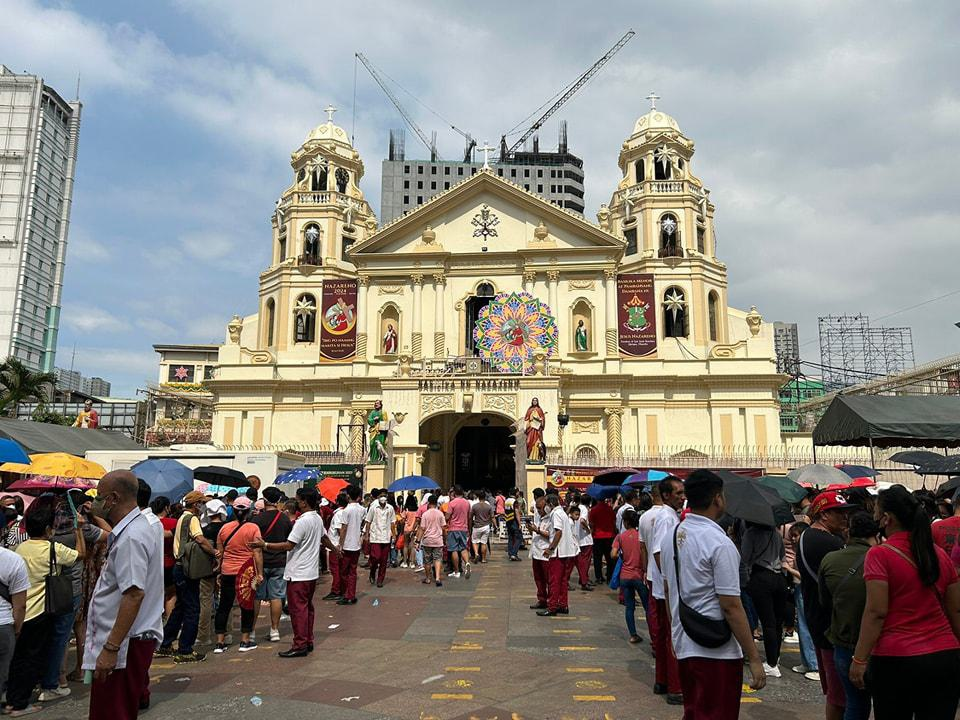quiapo_church_quiapo_manila: (188, 79, 785, 546)
